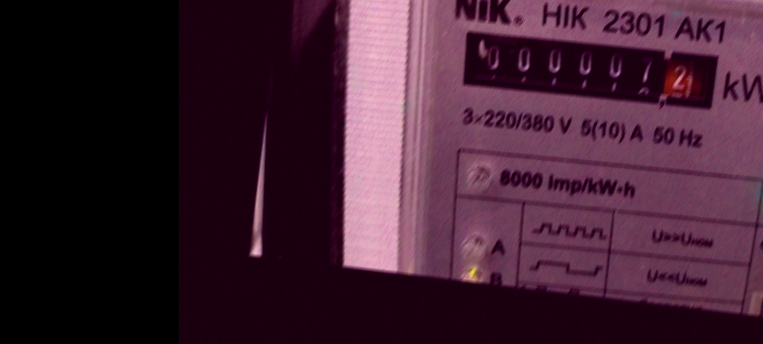0: (544, 46, 566, 75), (514, 45, 534, 75), (483, 43, 503, 72), (606, 51, 625, 81), (576, 48, 595, 77)
2: (670, 63, 690, 93)
7: (636, 55, 655, 86)
screen: (452, 18, 731, 122)
